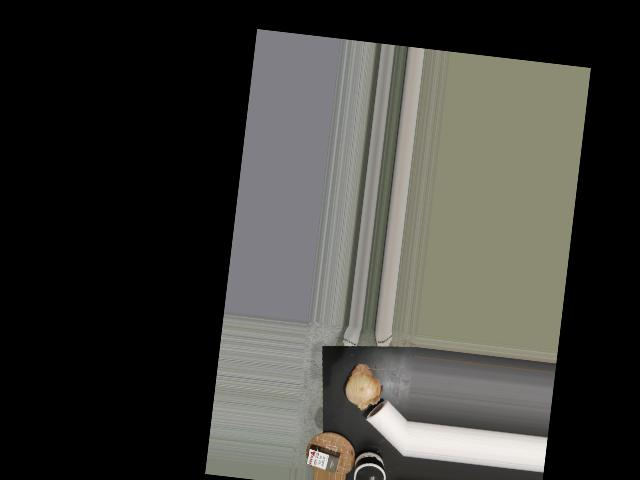onion: (341, 364, 380, 410)
